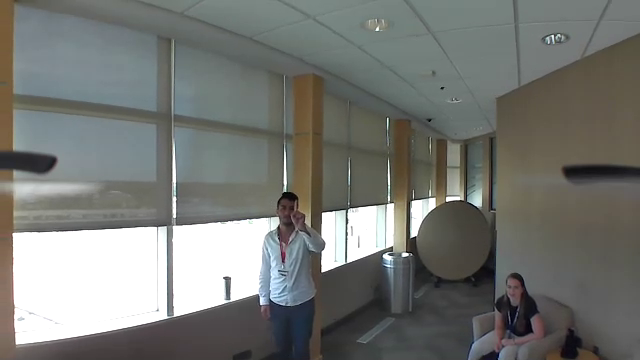up: (287, 196, 308, 228)
